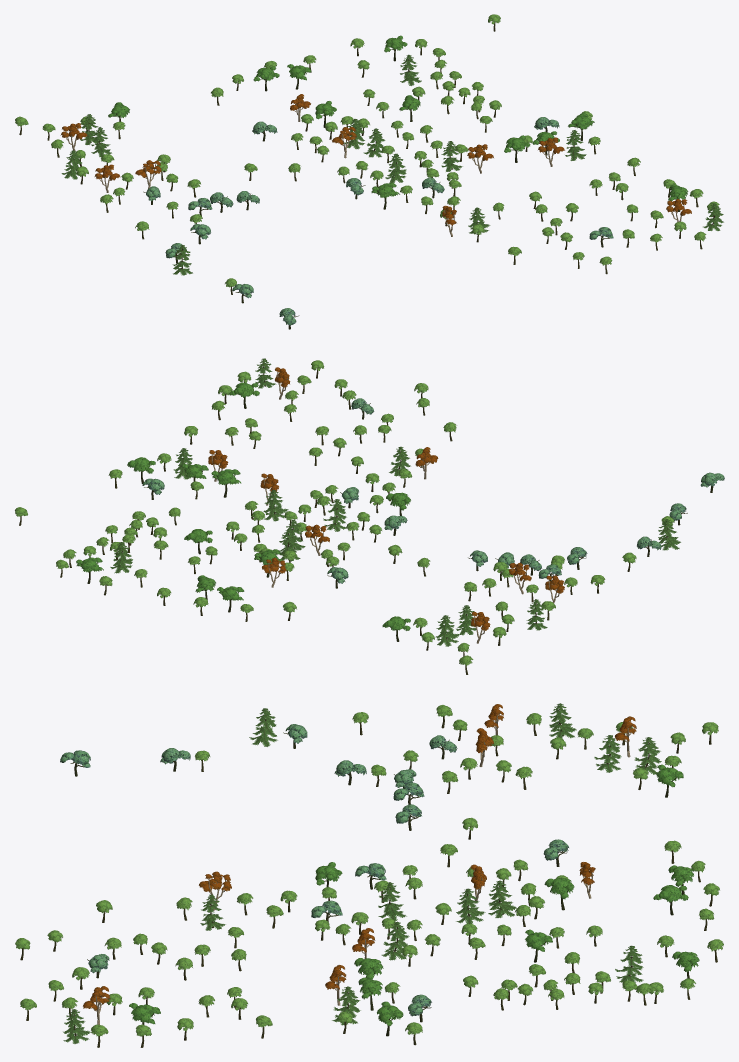
Rendered from overworld-1-2.gltf.
3 renders of one model, top to bottom at view 1: azimuth 30°, elevation 25°; view 2: azimuth 150°, elevation 25°; view 3: azimuth 270°, elevation 25°, orthographic. The views are drawn at different scales.
Parts seen in each view (by area): view 1: no part large enough to name; view 2: no part large enough to name; view 3: 7e2e11a73c6c1f6b77c7c18c44a87655900818e94c168e7a92bb0a48cc87 (×9).
Boxes of the visible parts, box(x1,y1,x2,y2) form: 7e2e11a73c6c1f6b77c7c18c44a87655900818e94c168e7a92bb0a48cc87 (×9): box(249, 703, 661, 982).
Bounding box in the file's own units: 130 × 12.6 × 130.
10 materials, 10 textured.
